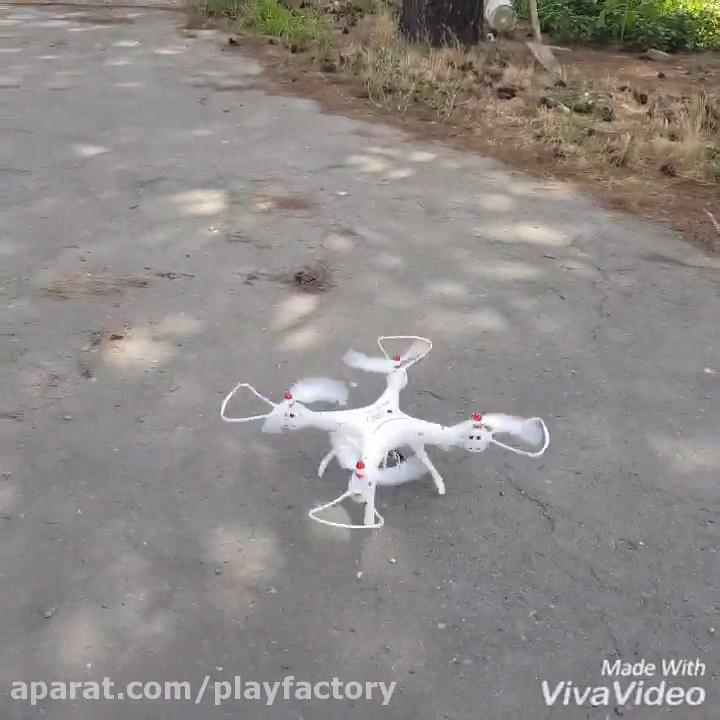drone: (215, 332, 553, 539)
